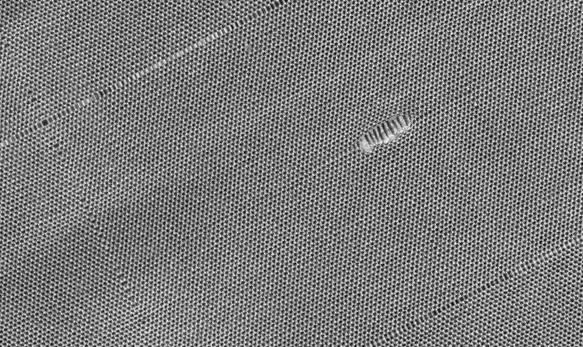slub: (361, 110, 420, 153)
